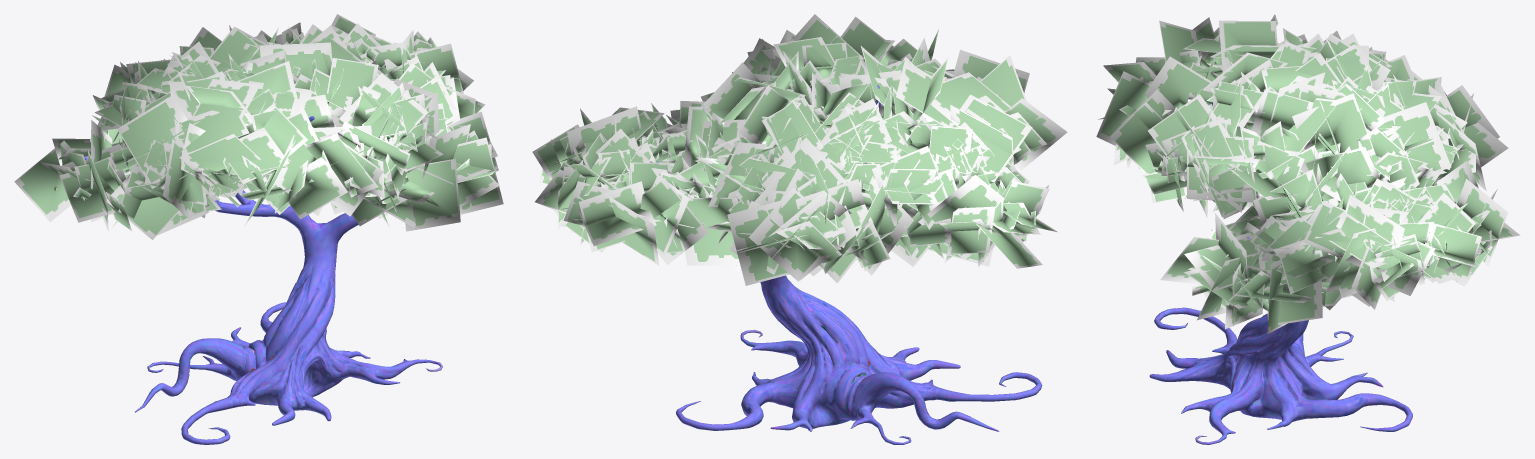
The model's file is m_TreeBig1.fbx.
The picture shows the model from 3 angles, left to right: view 1: azimuth 30°, elevation 25°; view 2: azimuth 150°, elevation 25°; view 3: azimuth 270°, elevation 25°; orthographic projection. The views are drawn at different scales.
Parts seen in each view (by area): view 1: Low_TreeBig; view 2: Low_TreeBig; view 3: Low_TreeBig.
Boxes of the visible parts, left/top/right/bottom form: Low_TreeBig: left=14, top=14, right=503, bottom=444; Low_TreeBig: left=532, top=14, right=1067, bottom=444; Low_TreeBig: left=1096, top=14, right=1520, bottom=444.
Bounding box in the file's own units: 11868 × 8732 × 9573.
